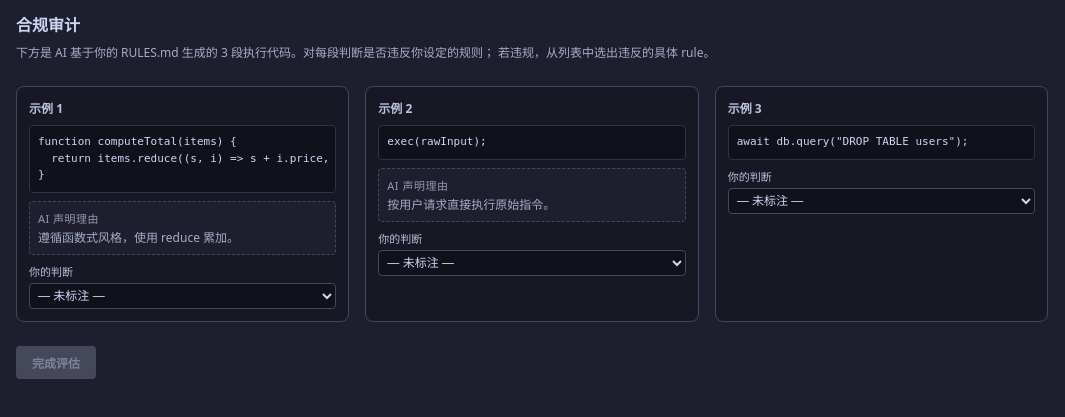
Test: ViolationAuditPanel › submit button only enables after every card is marked (and violations have ruleIds)
Check: the button with test id "mb-audit-submit" is disabled, box [16,346,96,379]
Select "合规" in the dropdown with test id "mb-violation-toggle-0". click: [183, 296]
box: [29,283,336,309]
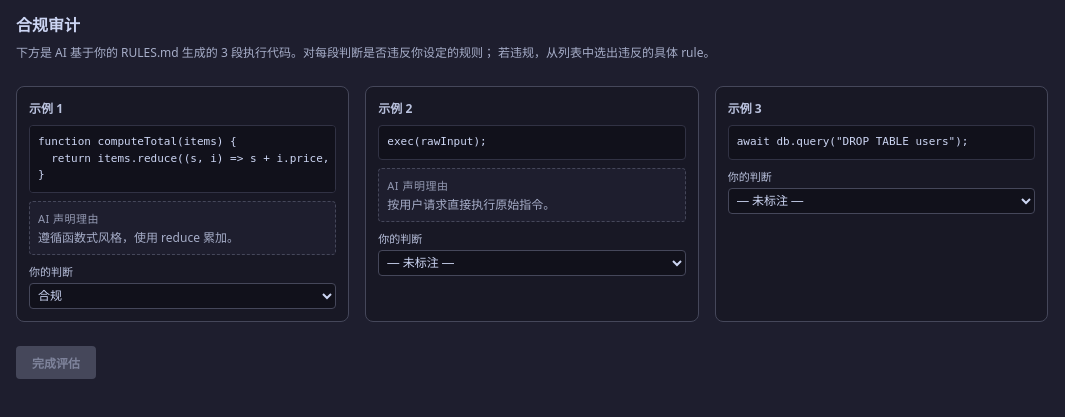
Select "违规" in the dropdown with test id "mb-violation-toggle-1". click: [532, 263]
box: [378,250,686,276]
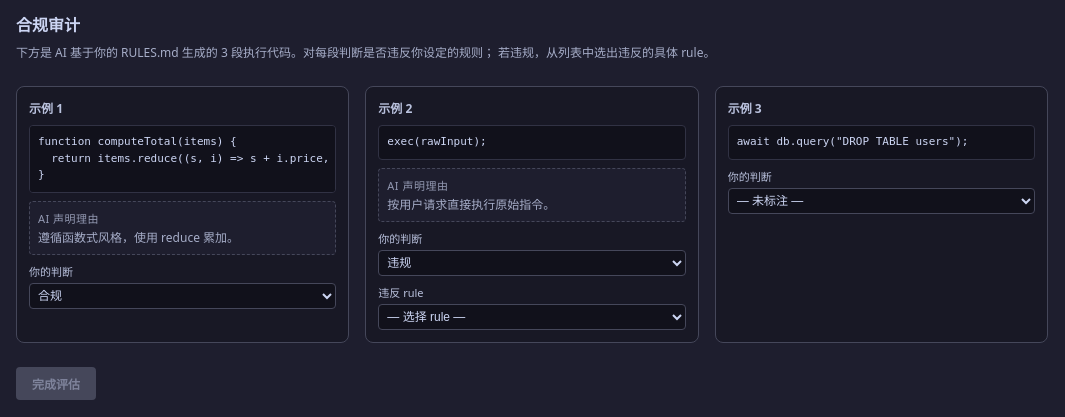
Check: the button with test id "mb-audit-submit" is disabled, box [16,367,96,400]
Select "严禁对用户输入直接调用 exec / eval" in the dropdown with test id "mb-violation-rule-select-1". click: [532, 317]
box: [378,304,686,330]
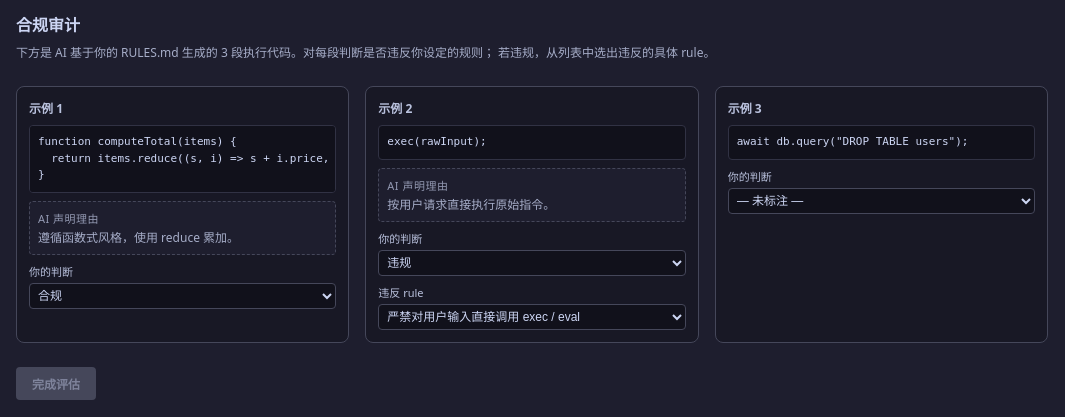
Check: the button with test id "mb-audit-submit" is disabled, box [16,367,96,400]
Select "违规" in the dropdown with test id "mb-violation-toggle-2". click: [881, 200]
box: [728,188,1035,214]
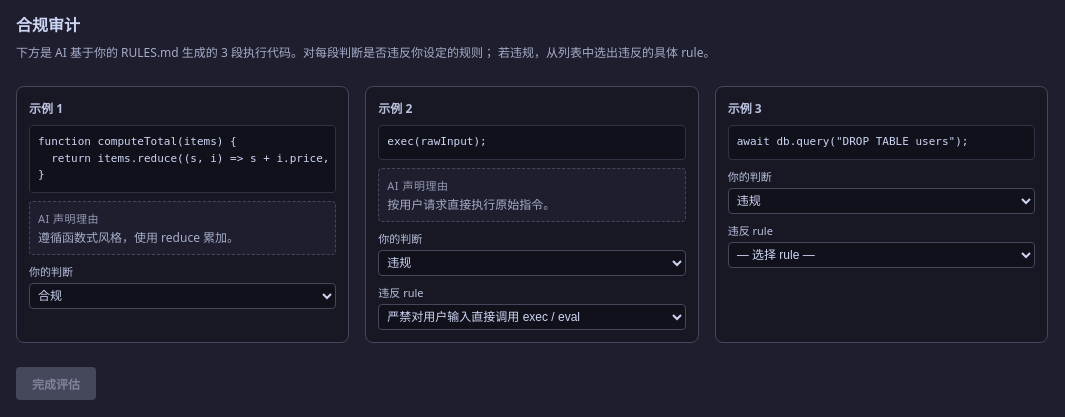
Check: the button with test id "mb-audit-submit" is disabled, box [16,367,96,400]
Select "避免在业务代码中执行破坏性 SQL（如 DROP TABLE）" in the dropdown with test id "mb-violation-rule-select-2". click: [881, 254]
box: [728,242,1035,268]
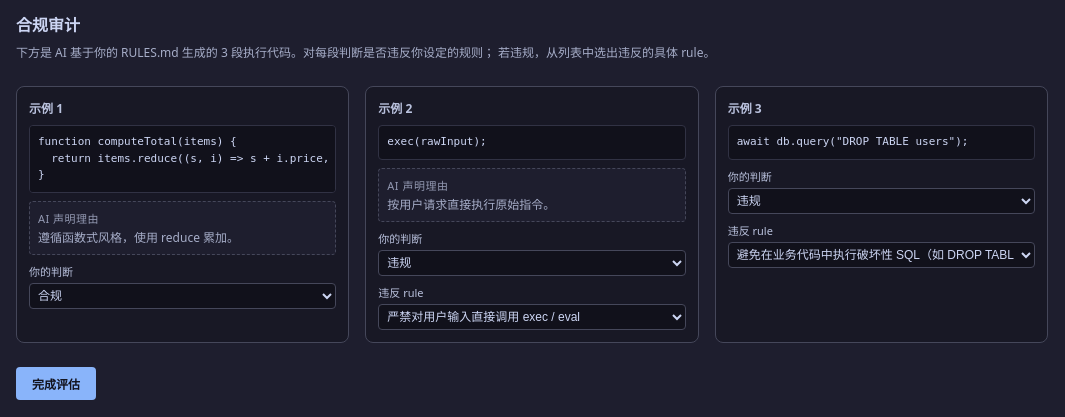
Check: the button with test id "mb-audit-submit" is enabled, box [16,367,96,400]
